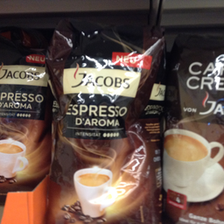coffee: (47, 16, 167, 224), (164, 30, 223, 223), (83, 157, 222, 222), (2, 29, 47, 201)
